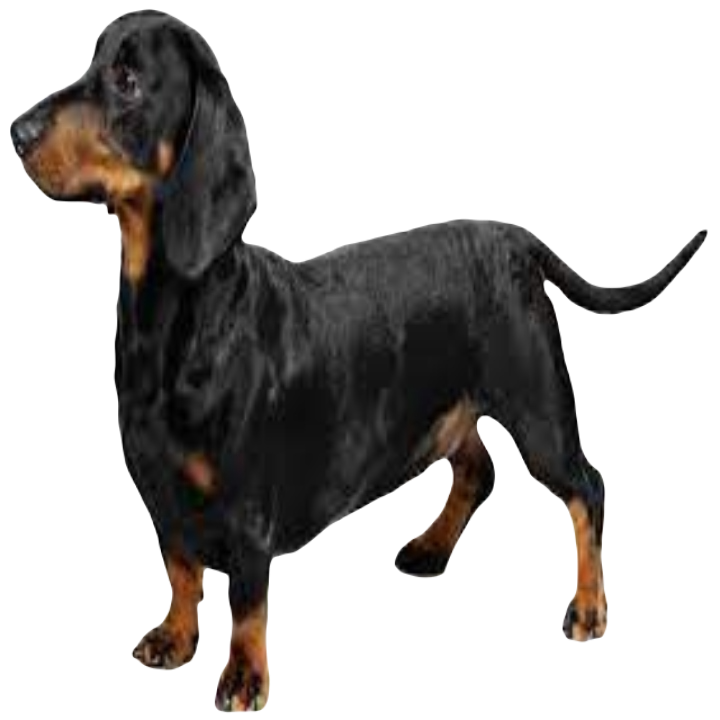Dog: (7, 10, 708, 709)
